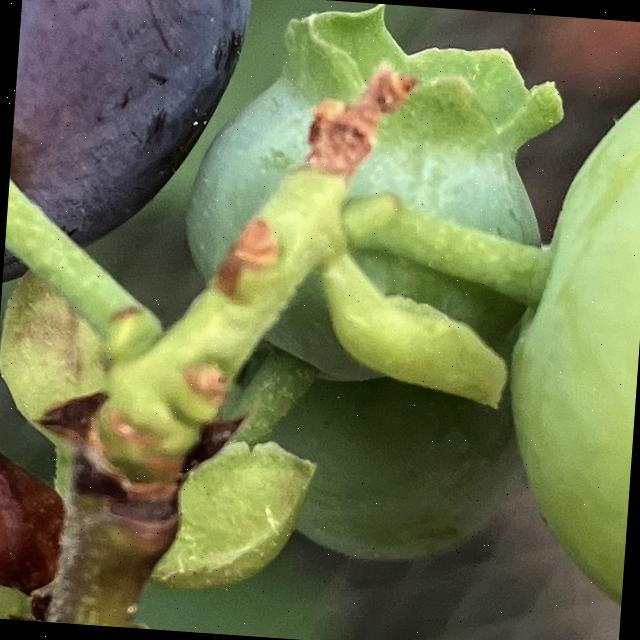Blueberries: (485, 13, 640, 640)
